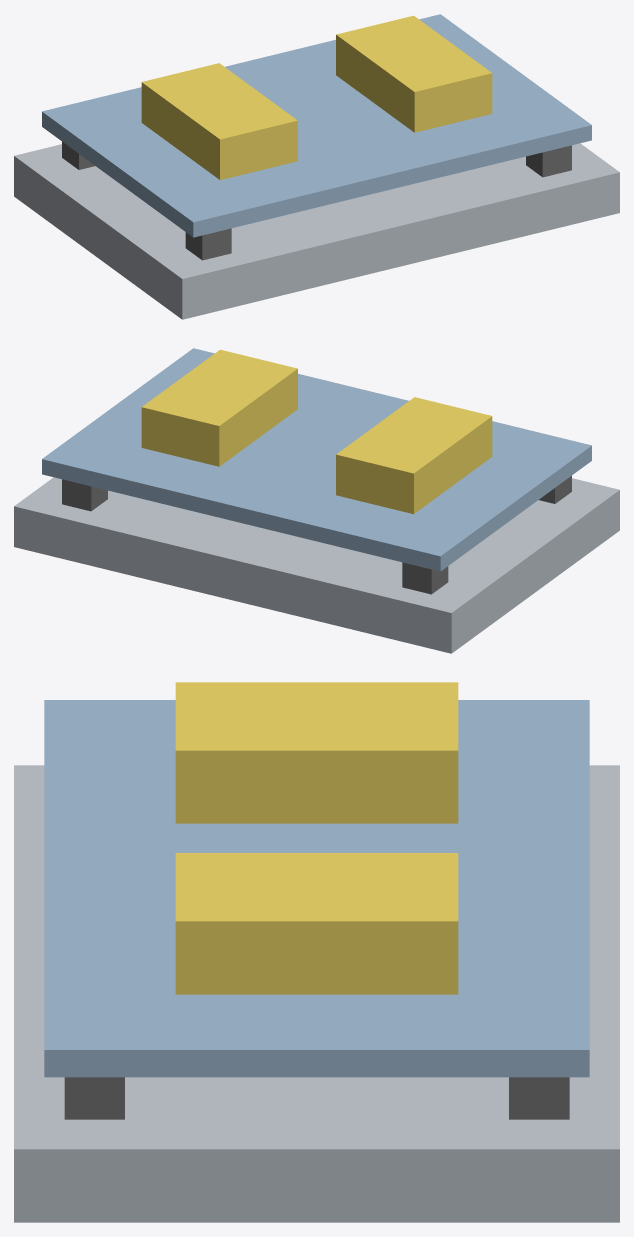
File: table.glb
3 renders of one model, top to bottom at view 1: azimuth 30°, elevation 25°; view 2: azimuth 150°, elevation 25°; view 3: azimuth 270°, elevation 25°, orthographic. The views are drawn at different scales.
Parts seen in each view (by area): view 1: Base_body, Table_body, Motor_1_body (×2), Spring_1_body (×3); view 2: Base_body, Table_body, Motor_1_body (×2), Spring_1_body (×3); view 3: Table_body, Base_body, Motor_1_body (×2), Spring_1_body (×2).
Boxes of the visible parts, box(x1,y1,x2,y2) form: Base_body: box(14, 143, 619, 319); Table_body: box(42, 14, 591, 237); Motor_1_body (×2): box(141, 15, 492, 180); Spring_1_body (×3): box(62, 141, 571, 260); Base_body: box(14, 477, 619, 653); Table_body: box(42, 348, 591, 571); Motor_1_body (×2): box(141, 349, 492, 514); Spring_1_body (×3): box(62, 475, 571, 594); Table_body: box(44, 700, 589, 1077); Base_body: box(14, 765, 619, 1222); Motor_1_body (×2): box(175, 682, 458, 994); Spring_1_body (×2): box(64, 1077, 569, 1119).
Size of the model in its own units: 0.9 by 0.25 by 0.6.
